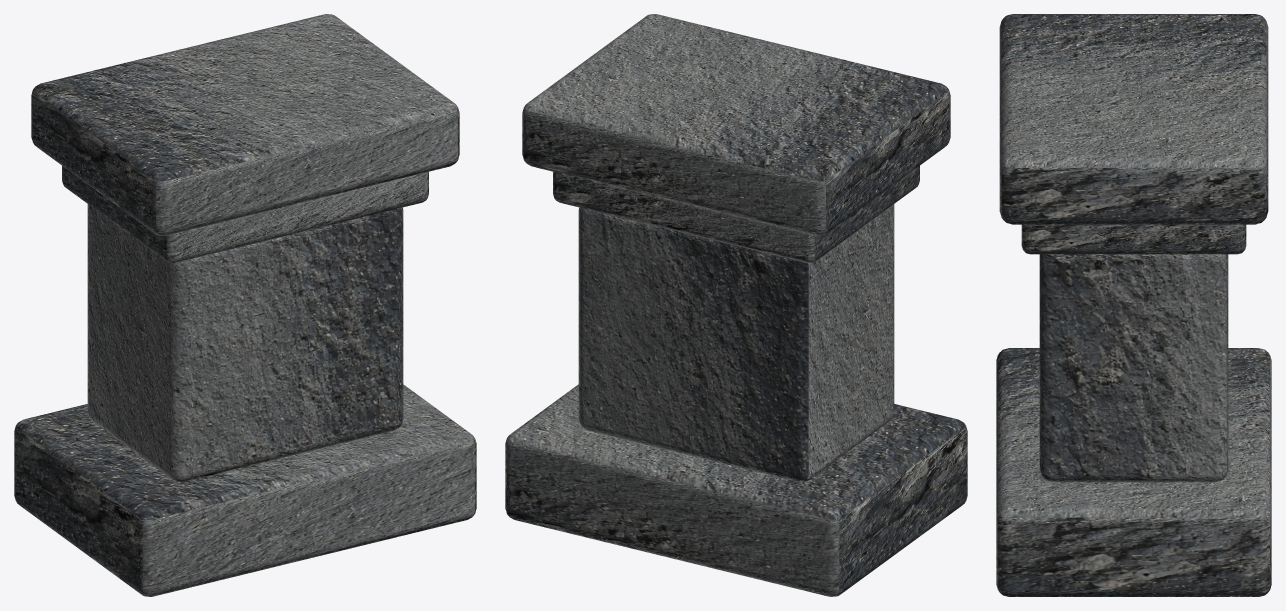
File: artifact-pedestal-v02.glb
3 renders of one model, left to right at view 1: azimuth 30°, elevation 25°; view 2: azimuth 150°, elevation 25°; view 3: azimuth 270°, elevation 25°, orthographic. The views are drawn at different scales.
Parts seen in each view (by area): view 1: Corpo do pedestal, Tampo, Base larga, Moldura superior; view 2: Corpo do pedestal, Tampo, Base larga, Moldura superior; view 3: Tampo, Base larga, Corpo do pedestal, Moldura superior.
Part boxes in pixels (x1,y1,x2,y2): Corpo do pedestal: (87,204,403,481); Tampo: (31,14,459,235); Base larga: (14,384,476,596); Moldura superior: (62,166,428,263); Corpo do pedestal: (578,204,894,481); Tampo: (522,14,950,235); Base larga: (505,384,967,596); Moldura superior: (553,166,919,263); Tampo: (999,14,1268,224); Base larga: (996,348,1271,596); Corpo do pedestal: (1039,254,1228,482); Moldura superior: (1021,224,1246,254).
Bounding box in the file's own units: 1.1 × 1.31 × 0.76.
1 material, 1 textured.
